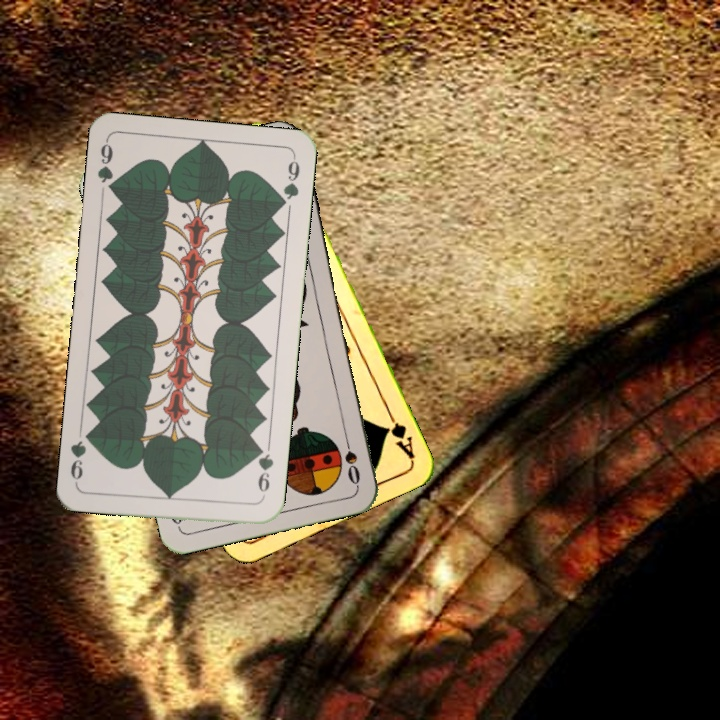G9: (93, 137, 119, 197), (253, 442, 276, 502)
GA: (381, 406, 418, 462)
SO: (339, 429, 363, 488)
